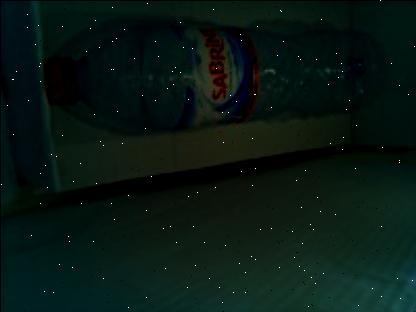Plastic Bottle: (45, 24, 381, 129)
